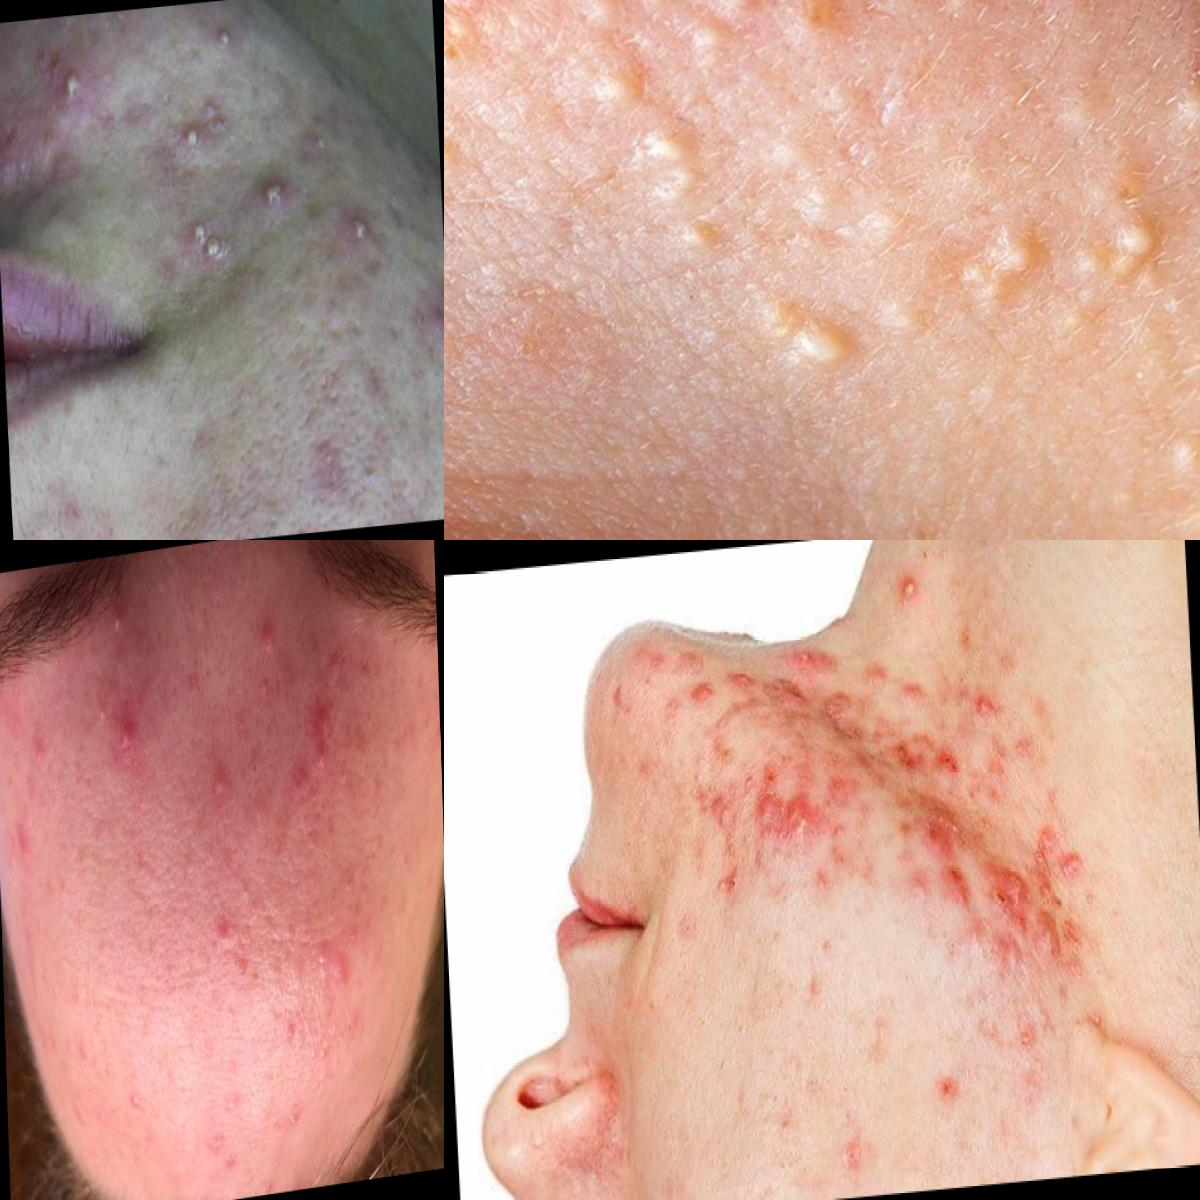acne_scars: (1034, 902, 1088, 980), (811, 690, 865, 753), (818, 765, 858, 822)
blackhead: (668, 886, 721, 980), (819, 1056, 870, 1138), (759, 1077, 803, 1153)
milium: (544, 1, 796, 118), (605, 113, 736, 285), (445, 1, 524, 214), (959, 195, 1052, 366), (1074, 189, 1200, 304), (735, 285, 877, 387), (1153, 1, 1200, 178)
papular: (112, 689, 151, 769), (309, 689, 346, 768), (926, 1062, 969, 1116), (419, 275, 445, 359), (854, 654, 895, 705), (210, 734, 238, 805), (259, 600, 285, 669), (685, 674, 723, 719), (324, 637, 359, 682), (726, 657, 764, 699), (973, 687, 1005, 734), (329, 948, 363, 993), (898, 679, 933, 716), (245, 738, 270, 788), (288, 746, 316, 786), (231, 865, 253, 913)
purulent: (176, 215, 238, 284), (889, 557, 930, 621), (1003, 1008, 1047, 1066), (253, 167, 299, 218), (275, 1079, 312, 1141), (340, 203, 377, 257), (112, 1080, 155, 1121), (56, 62, 89, 112), (205, 18, 245, 59), (176, 113, 210, 157), (109, 598, 130, 642), (95, 681, 109, 735)
sebo-crystan-conglo: (907, 793, 975, 932), (881, 726, 982, 799), (747, 767, 822, 862), (773, 632, 853, 700), (1, 105, 52, 210), (981, 851, 1035, 942), (1057, 843, 1100, 901)
whitehead: (673, 729, 716, 823)
